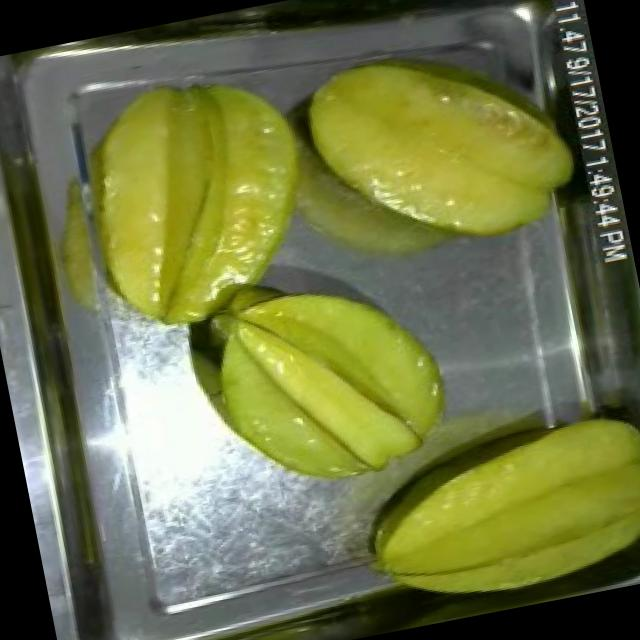fruit: (56, 46, 344, 352), (278, 12, 599, 286), (190, 252, 468, 514), (343, 393, 640, 635)
